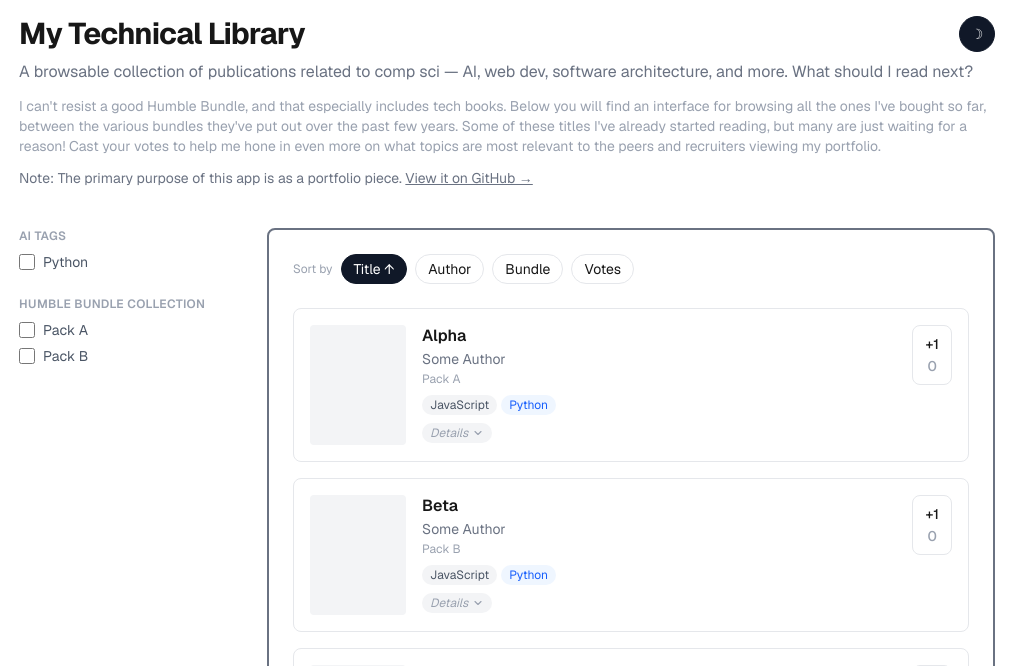
BookShelf › applies AND logic across categories — book must match all active categories
Click the checkbox labelled "Python" at (27, 262), box [19, 254, 35, 270]
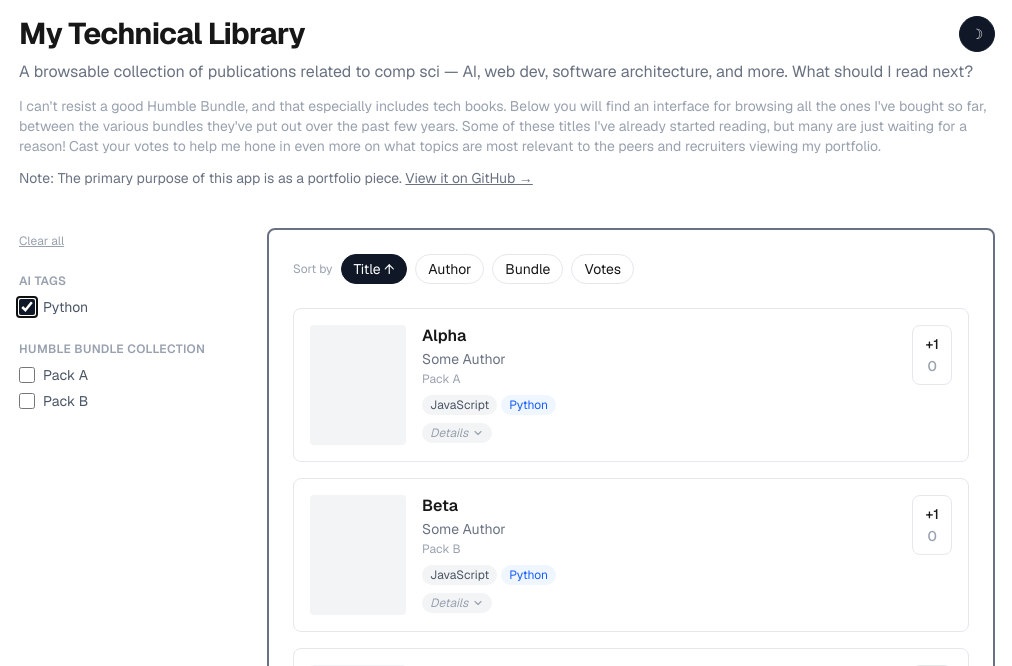
Click the checkbox labelled "Pack A" at (27, 375), box [19, 367, 35, 383]
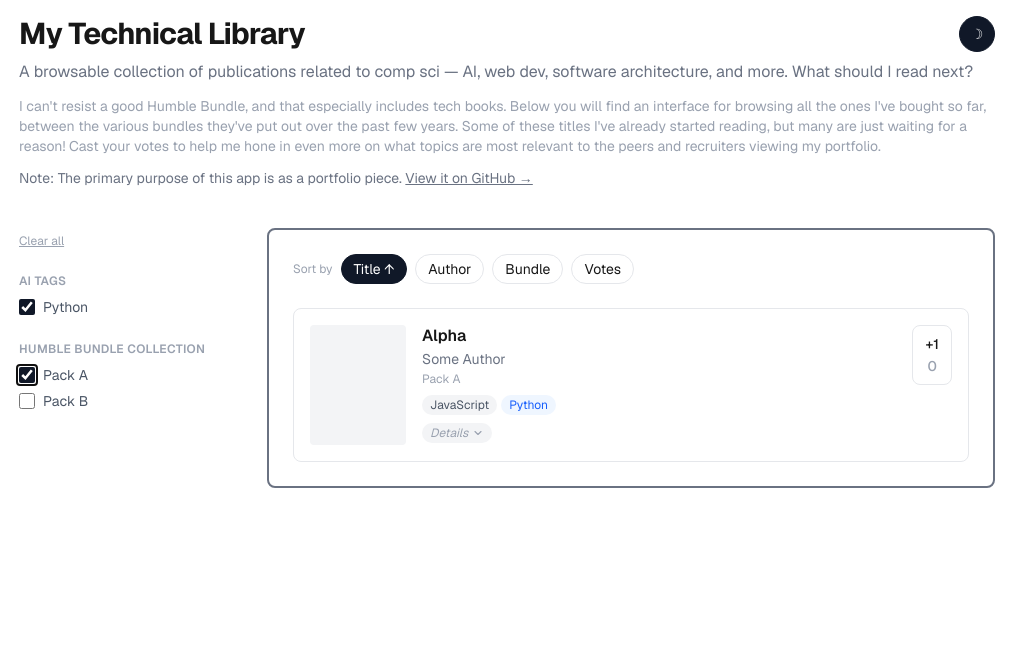
Expected: the text "Alpha" is shown, [422, 325, 466, 346]
Now the text "Beta" is gone
